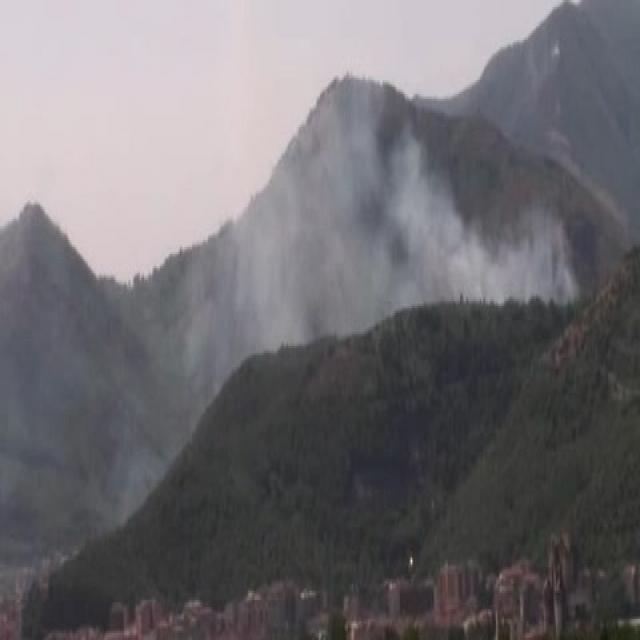smoke: (321, 95, 501, 318)
